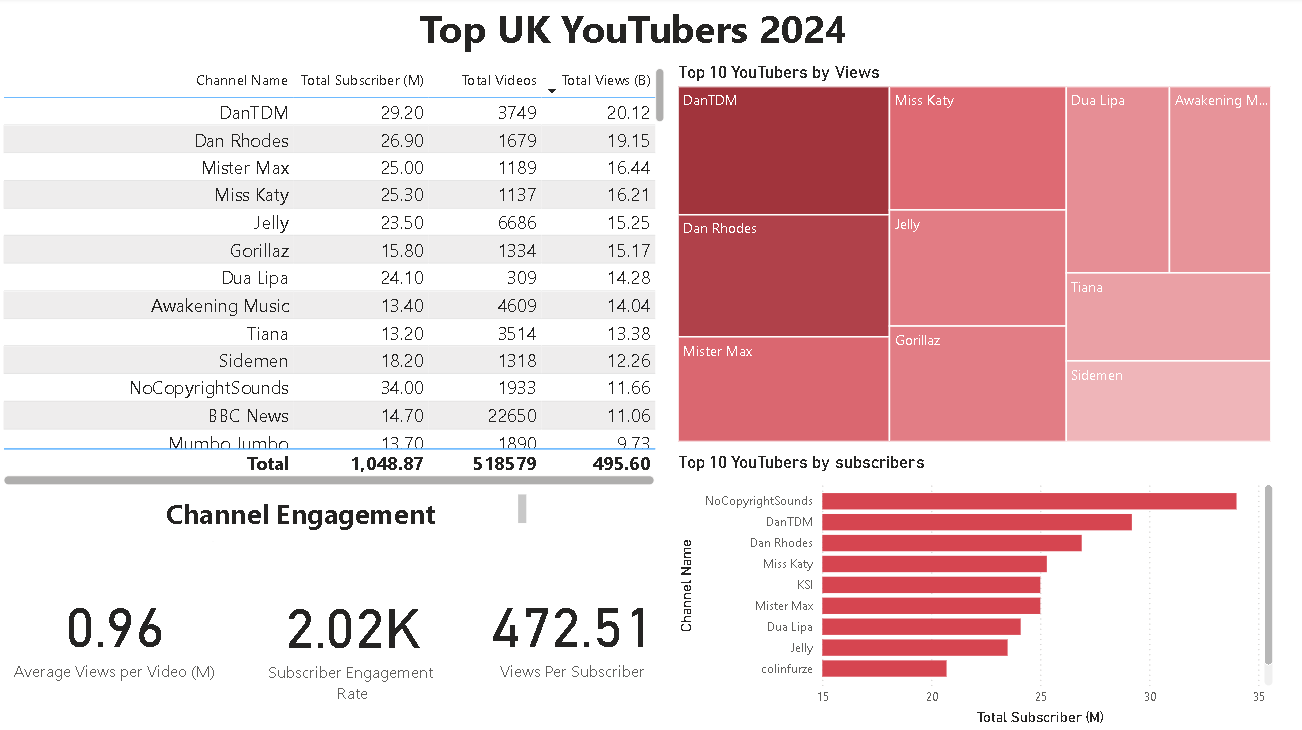

Layout of this report page (visuals, bound fields, positions):
{"tool":"powerbi","page":{"name":"Page 1","canvas":[1280,720],"ordinal":0},"visuals":[{"type":"textbox","box":[408,0,442,64.8],"z":0},{"type":"tableEx","fields":{"Values":["view_uk_youtubers_2024.channel_name","view_uk_youtubers_2024.Total Subscriber (M)","view_uk_youtubers_2024.Total Videos","view_uk_youtubers_2024.Total Views (B)"]},"box":[0,64.4,658.1,417.5],"z":1000},{"type":"treemap","title":"Top 10 YouTubers by Views","fields":{"Group":["view_uk_youtubers_2024.channel_name"],"Values":["view_uk_youtubers_2024.Total Views (B)"]},"box":[662.1,63.6,589.8,376.6],"z":2000},{"type":"card","fields":{"Values":["view_uk_youtubers_2024.Average Views per Video (M)"]},"box":[0,522.8,230.4,194.3],"z":3000},{"type":"card","fields":{"Values":["view_uk_youtubers_2024.Subscriber Engagement Rate"]},"box":[240.8,522.8,215,196],"z":4000},{"type":"card","fields":{"Values":["view_uk_youtubers_2024.Views Per Subscriber"]},"box":[448.8,522.8,228.7,194.3],"z":5000},{"type":"clusteredBarChart","title":"Top 10 YouTubers by subscribers","fields":{"Category":["view_uk_youtubers_2024.channel_name"],"Y":["view_uk_youtubers_2024.Total Subscriber (M)"]},"box":[662.1,445.4,591.6,271.7],"z":6000},{"type":"textbox","box":[159.9,481.5,362.9,55],"z":6001}]}

Visuals, with their boxes in screenshot pixels (x1, y1, x2, y2), scaled from the page's 1280x720 canvas onto the 1302x730 screenshot:
textbox: bbox=[415, 0, 865, 66]
tableEx - view_uk_youtubers_2024.channel_name x view_uk_youtubers_2024.Total Subscriber (M): bbox=[0, 65, 669, 489]
"Top 10 YouTubers by Views" treemap: bbox=[673, 64, 1273, 446]
card - view_uk_youtubers_2024.Average Views per Video (M): bbox=[0, 530, 234, 727]
card - view_uk_youtubers_2024.Subscriber Engagement Rate: bbox=[245, 530, 464, 729]
card - view_uk_youtubers_2024.Views Per Subscriber: bbox=[457, 530, 689, 727]
"Top 10 YouTubers by subscribers" clusteredBarChart: bbox=[673, 452, 1275, 727]
textbox: bbox=[163, 488, 532, 544]
